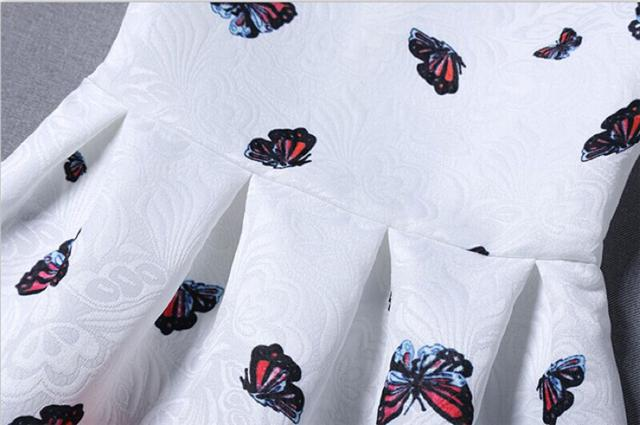Dresses: (1, 3, 640, 424)
